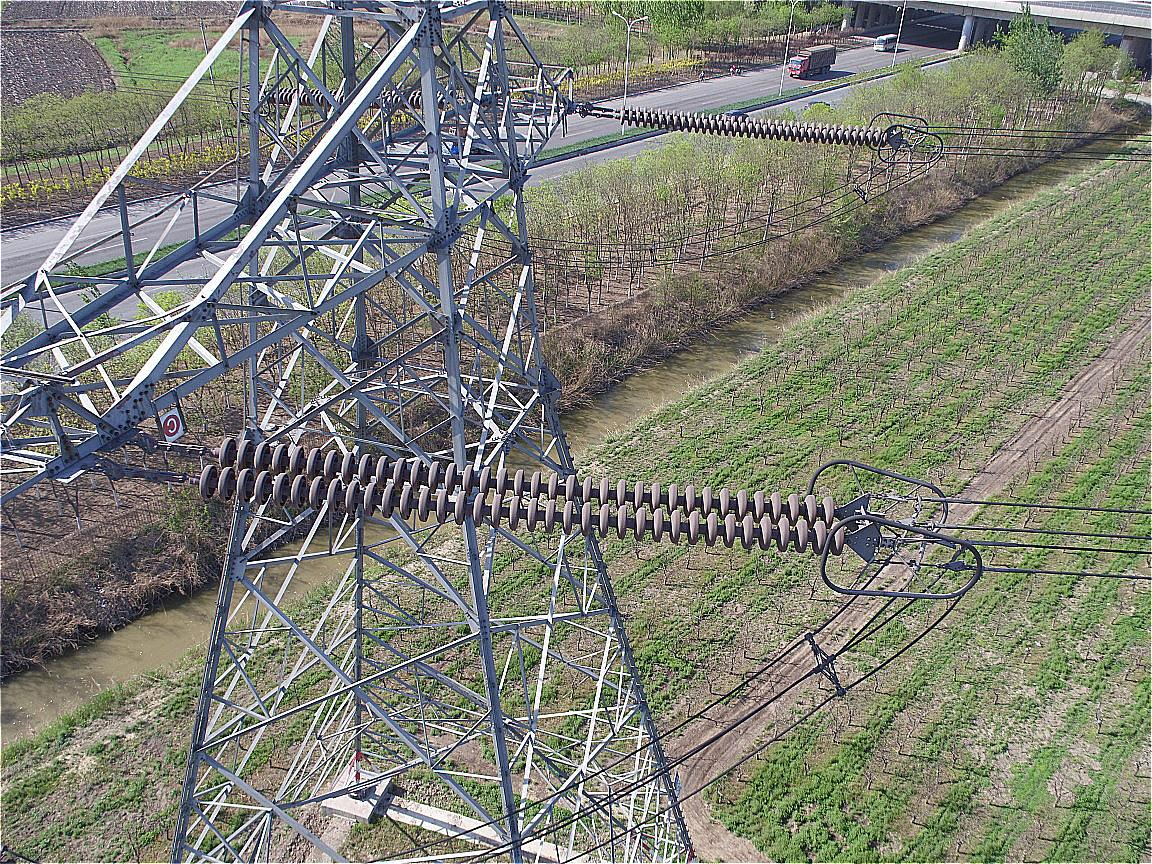insultor1: (201, 438, 846, 554), (618, 105, 888, 149)
